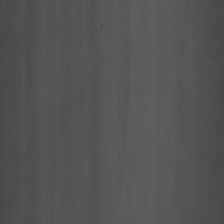inclusion: (96, 21, 103, 36)
